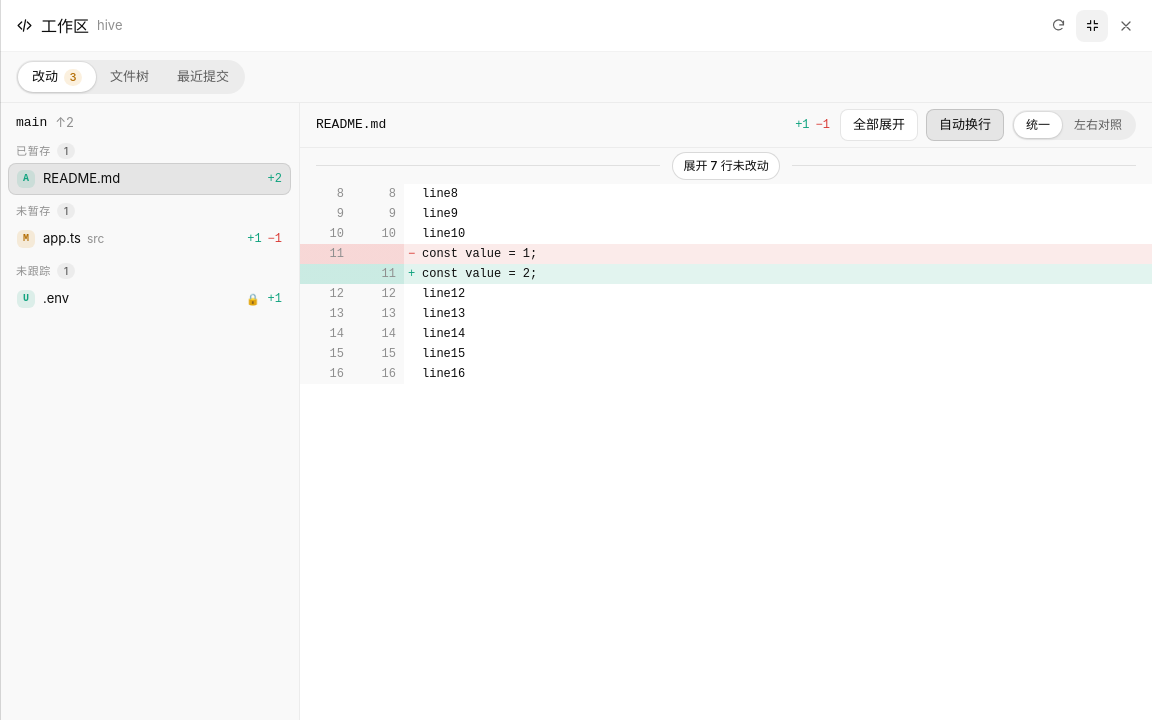
Test: WorkspacePanel › diff：折叠未改动、全部展开、切换左右对照并记住选择
This screenshot has width=1152, height=720.
Expected: the button "展开 7 行未改动" is shown, x1=672 y1=152 x2=780 y2=180
Click the button "全部展开". click: (879, 125)
box: x1=840 y1=109 x2=918 y2=140
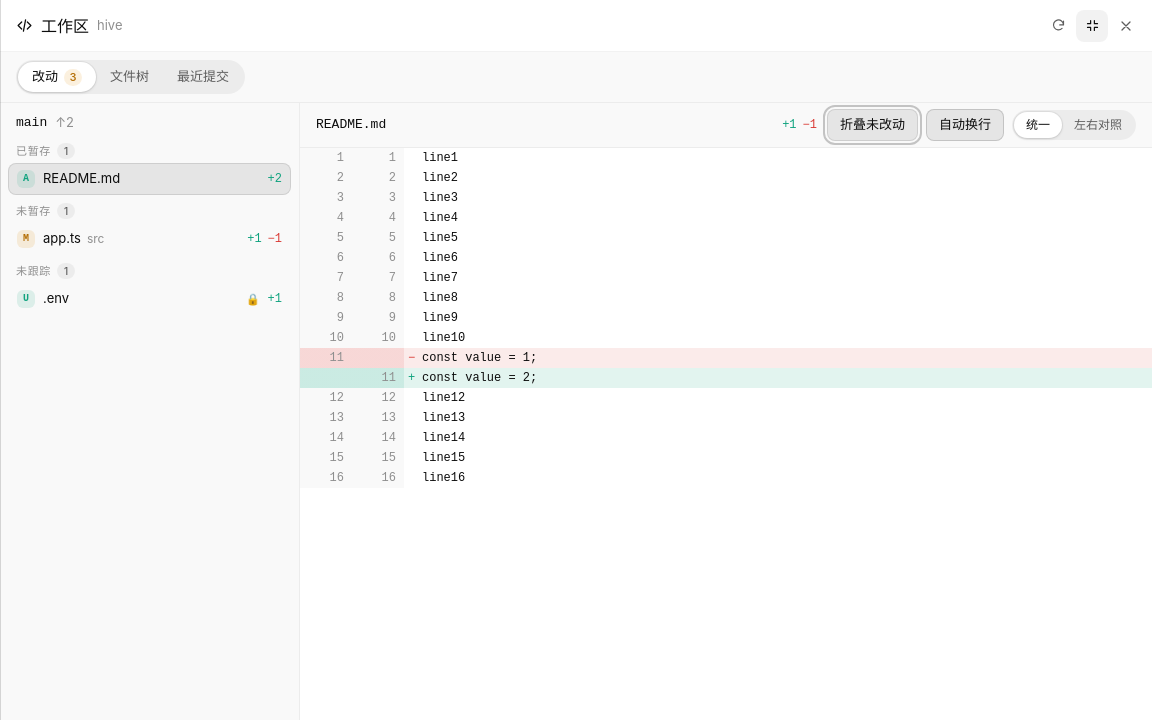
Now the text "line1" is shown, box x1=422 y1=150 x2=458 y2=164
Click the radio button labelled "左右对照". click: (1098, 125)
box: x1=1062 y1=112 x2=1134 y2=138
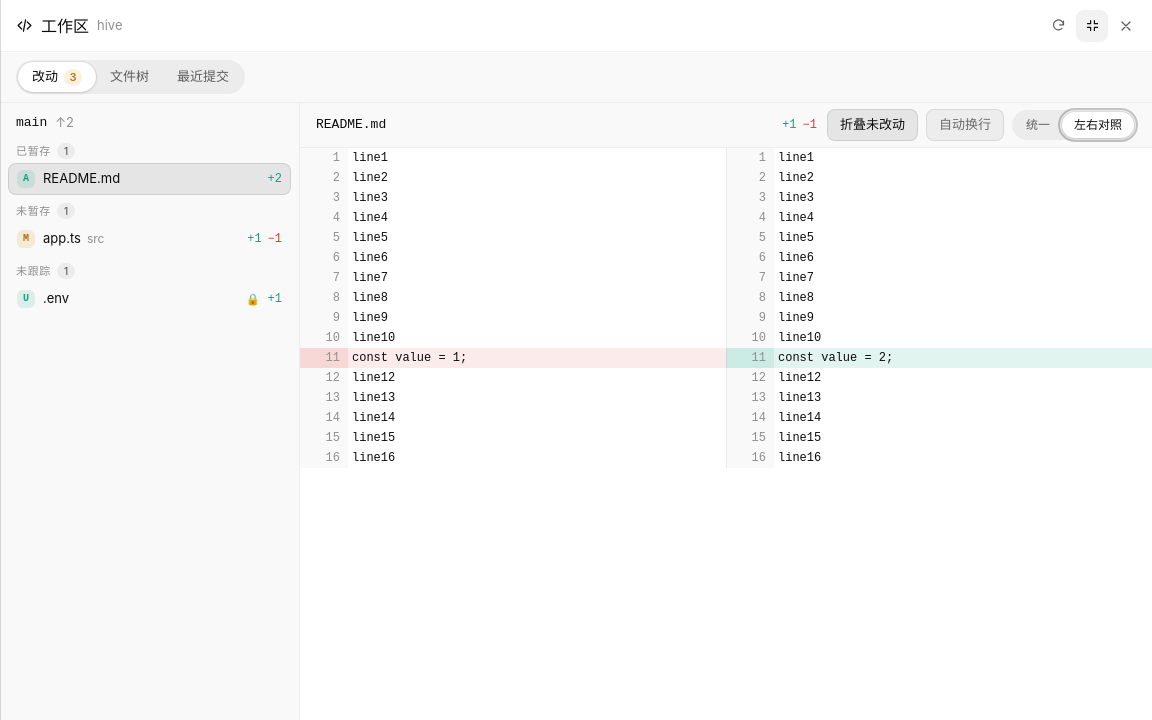
Now the row "11 const value = 1; 11 const value = 2;" is shown, box x1=300 y1=348 x2=1151 y2=368
